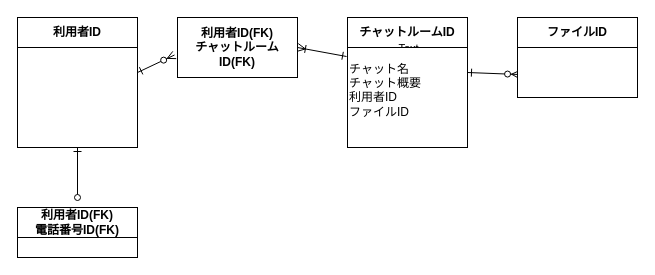
Some shapes in this 655 by 275 pixel diagram are drawn without their labels. The centre of each missing label's shape, as x and y in pixels:
"ファイル" goes at [577,67].
"名前 メールアドレス パスワード 自己紹介 電話番号ID(FK) 作成日時 更新日時" goes at [77,97].
"電話番号" goes at [77,247].
